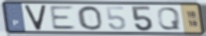5: (130, 5, 154, 32), (104, 6, 128, 31)
E: (48, 5, 78, 31)
O: (76, 5, 104, 31)
Q: (156, 6, 183, 31)
V: (23, 4, 48, 32)
